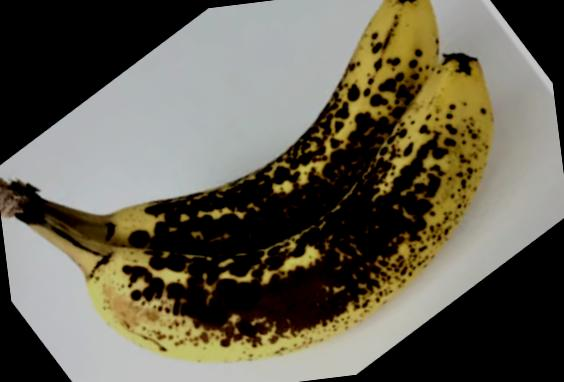Banana Overripe: (0, 0, 535, 382)
